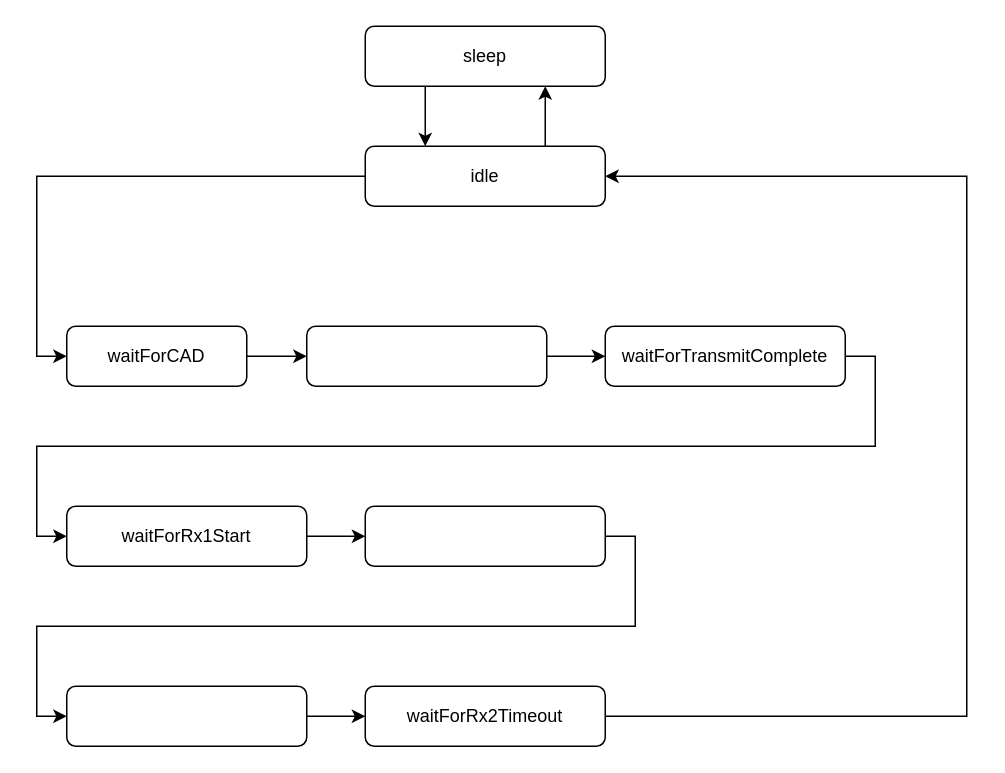
This 1005x773 diagram has some shape labels left out. Here are the shapes that lost their labels. From the top down, the centre of each, then its label:
At point 426,355: "waitForReadyToTransmit".
At point 484,535: "waitForRx1Timeout".
At point 186,715: "waitForRx2Start".
